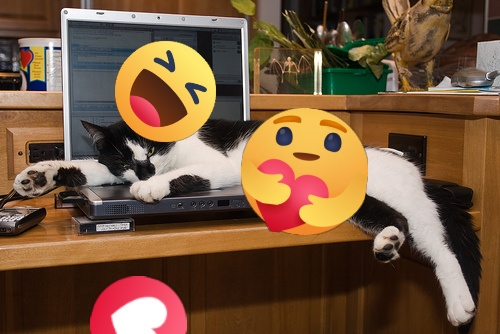care: (241, 108, 368, 235)
haha: (115, 41, 216, 142)
love: (90, 276, 187, 334)
